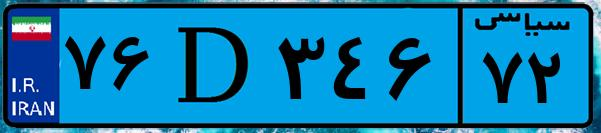2: (525, 38, 570, 115)
3: (270, 28, 330, 110)
4: (330, 28, 385, 110)
6: (385, 28, 445, 110), (110, 28, 158, 98)
7: (57, 26, 110, 100), (475, 38, 525, 113)
D: (158, 12, 270, 120)
